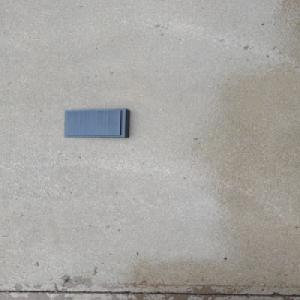PlasticPart: (63, 107, 131, 139)
